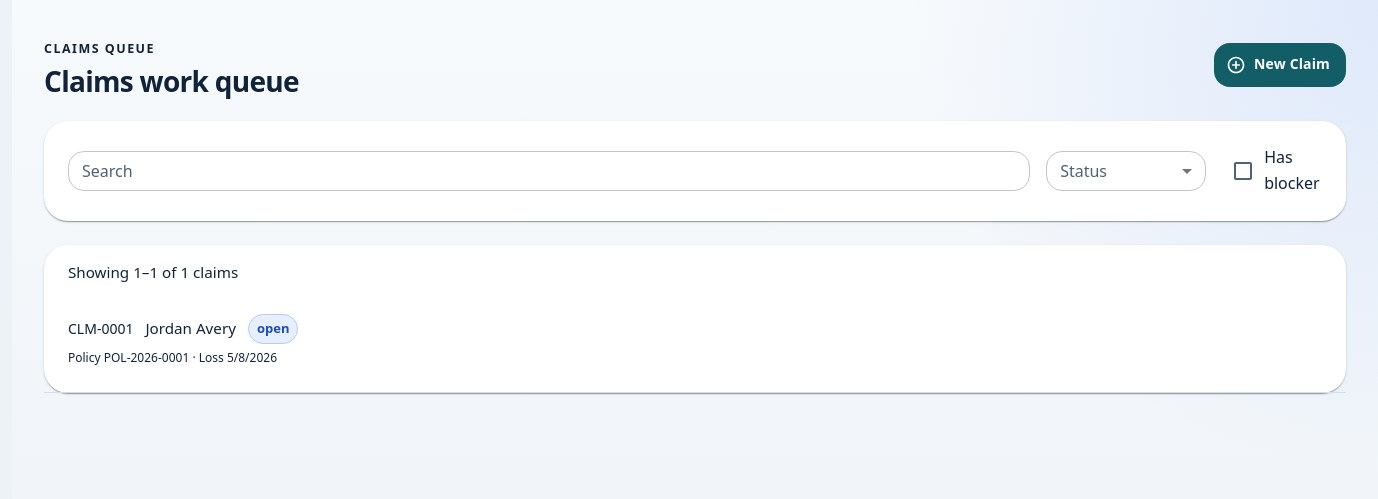
it: ClaimsQueuePage › updates the URL and refetches when the status filter changes
Expected: the heading "CLM-0001" is shown, x1=68 y1=318 x2=133 y2=340
Press the mouse on the dropdown named "Status" at (1126,171), box x1=1046 y1=151 x2=1206 y2=191
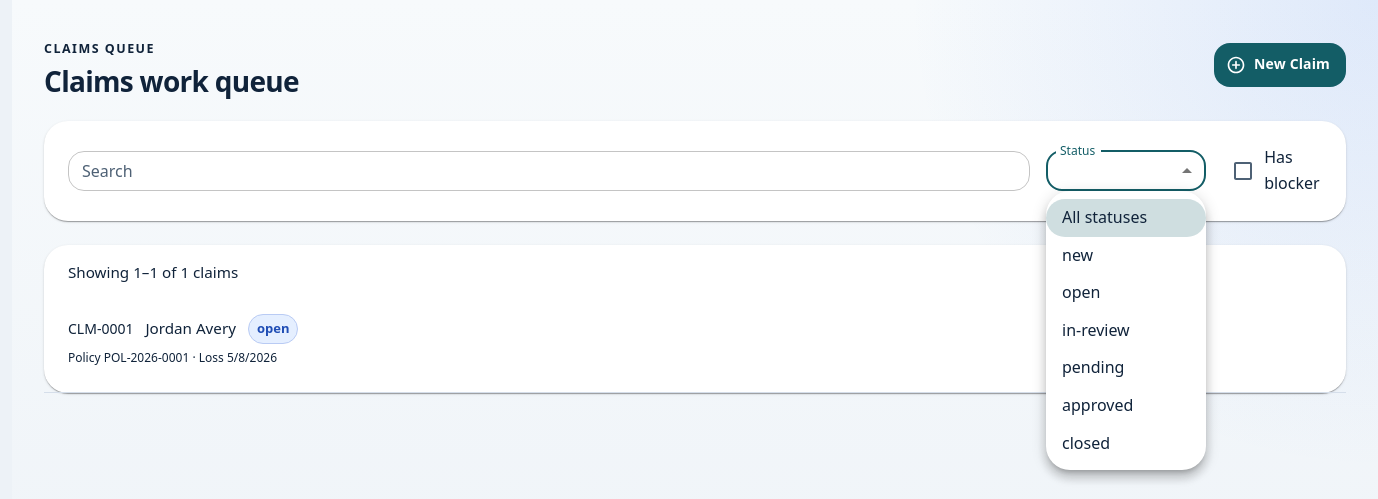
Click the option "open". click: (1081,292)
box: x1=1062 y1=281 x2=1100 y2=303
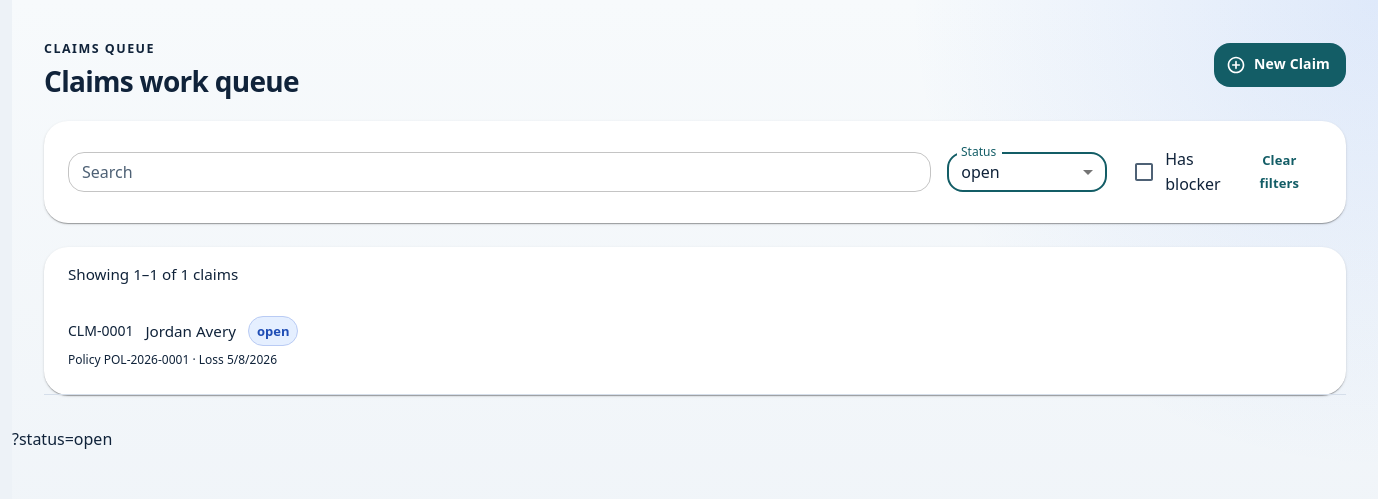
Now the text with test id "location-search" reads "?status=open", box x1=12 y1=428 x2=112 y2=450
